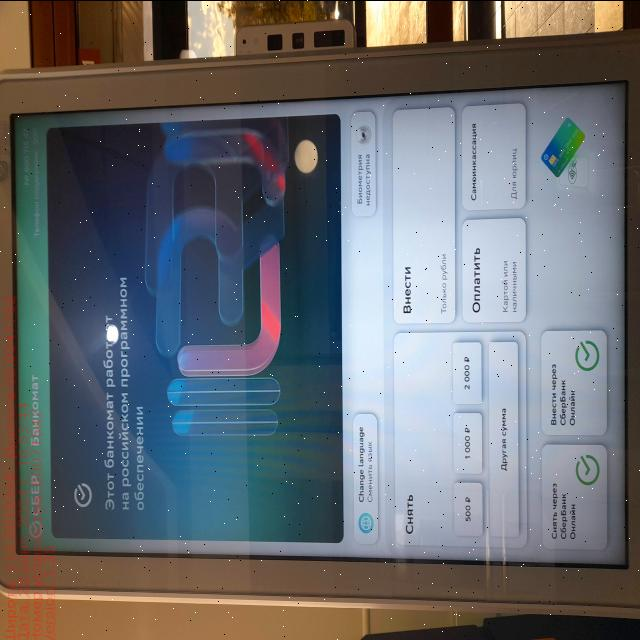bank: (1, 56, 640, 610)
